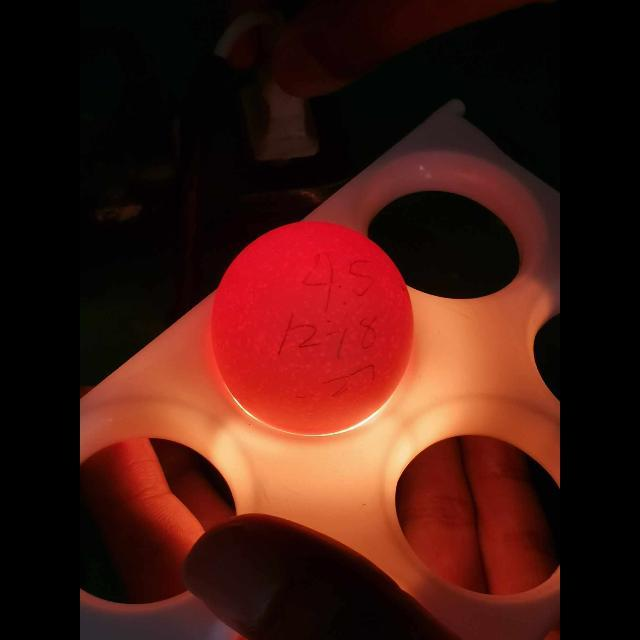Infertile: (209, 219, 417, 436)
